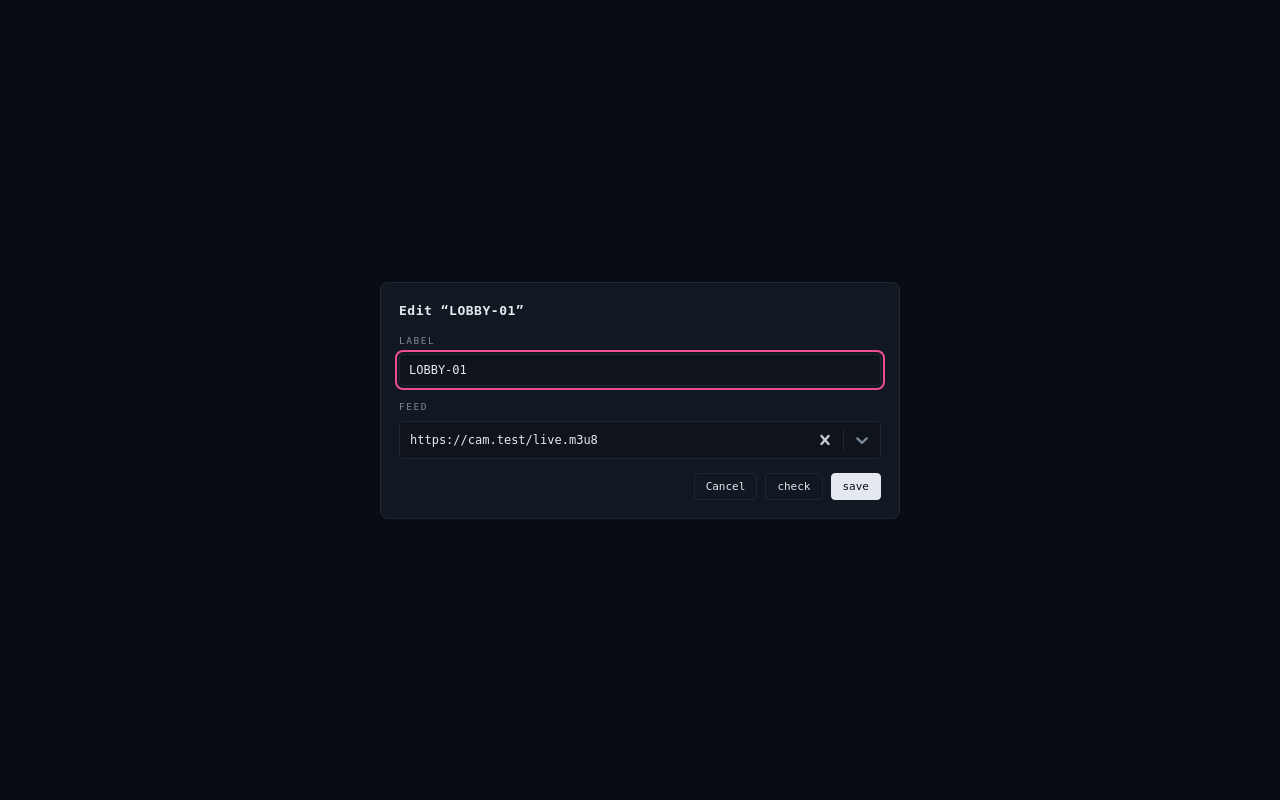
editing an existing feed › shows progress while the probe is in flight
Click the button "check": (794, 486) [765,472,822,500]
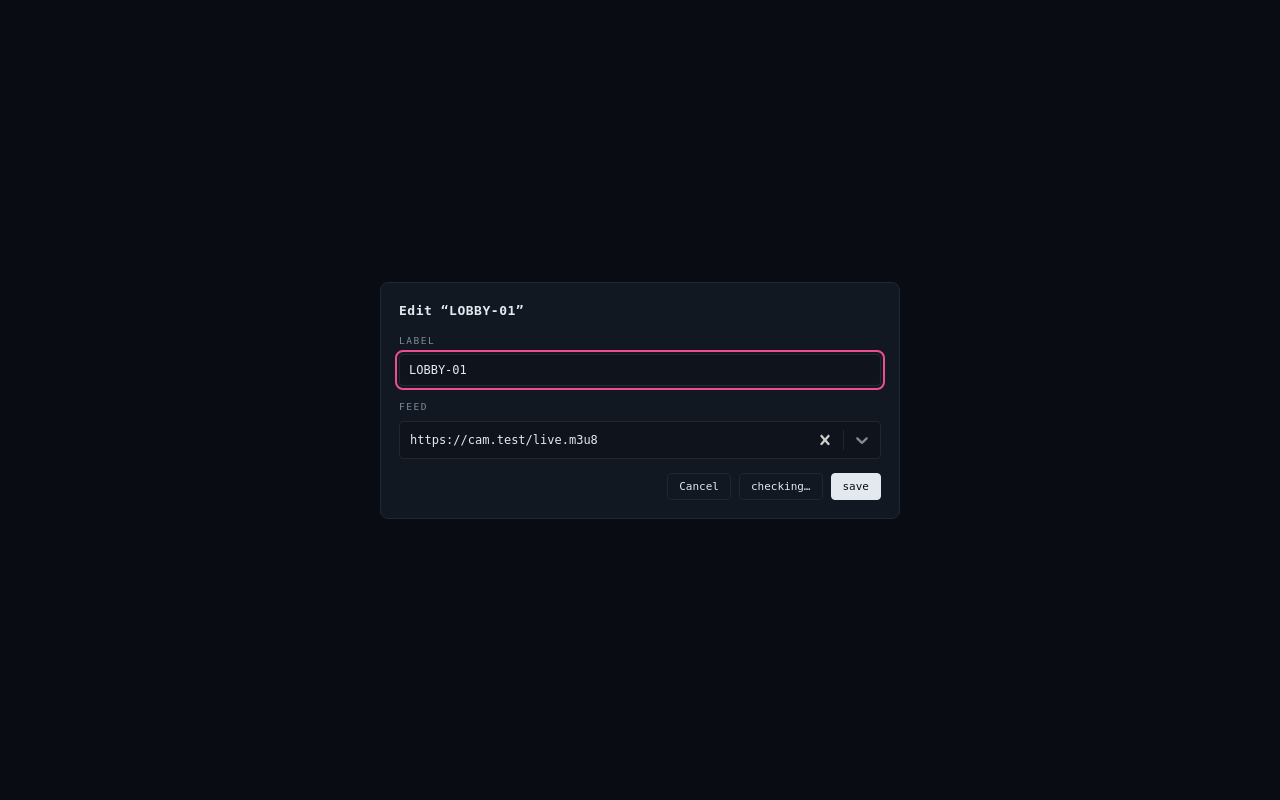
Now the button "checking…" is shown, box [739,472,822,500]
